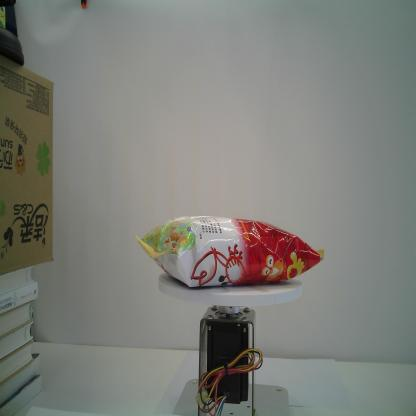Puffed Food: (134, 215, 326, 288)
